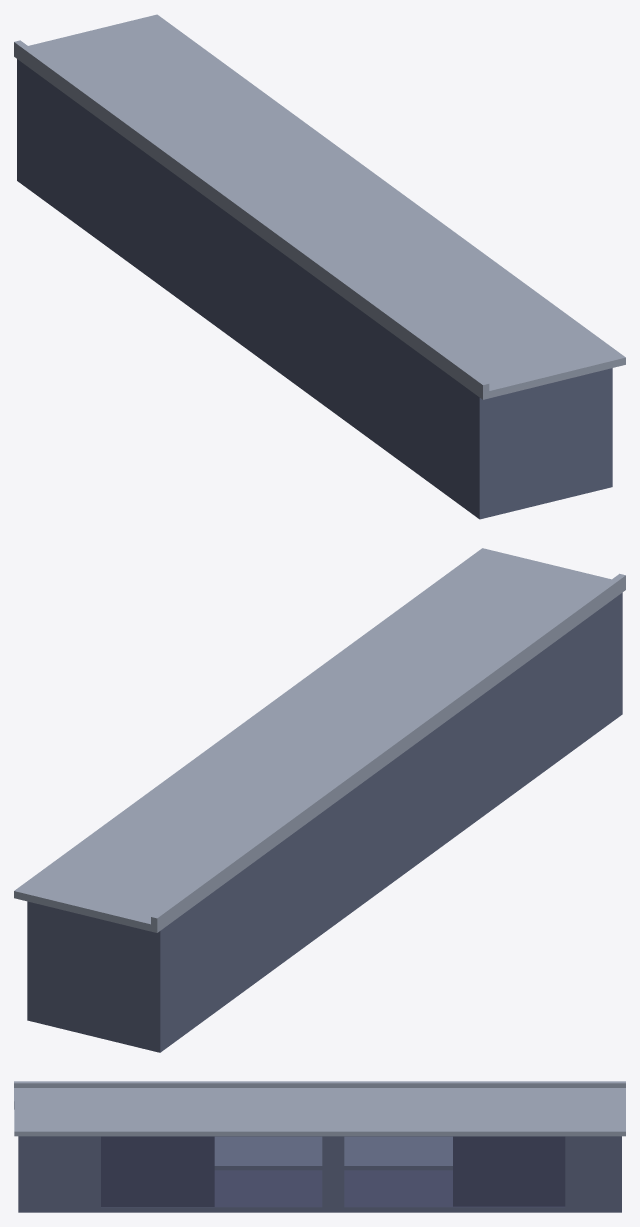
Rendered from f_cupboard.fbx.
The picture shows the model from 3 angles, top to bottom: view 1: azimuth 30°, elevation 25°; view 2: azimuth 150°, elevation 25°; view 3: azimuth 270°, elevation 25°; orthographic projection. The views are drawn at different scales.
Visible parts, largest first — view 1: f_cupboard; view 2: f_cupboard; view 3: f_cupboard, f_cupboard_door_01, f_cupboard_door_03.
Boxes of the visible parts, x1,y1,x2,y2 form: f_cupboard: [14, 14, 625, 519]; f_cupboard: [14, 548, 625, 1052]; f_cupboard: [14, 1081, 625, 1212]; f_cupboard_door_01: [101, 1136, 214, 1206]; f_cupboard_door_03: [453, 1136, 565, 1206].
Size of the model in its own units: 539 by 95.1 by 86.7.
